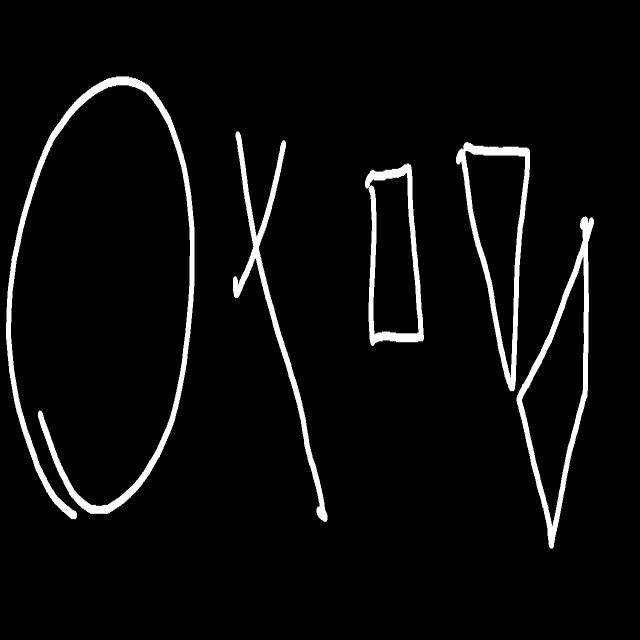circle: (6, 76, 194, 519)
cross: (234, 132, 328, 522)
diamond: (516, 219, 594, 548)
rectangle: (365, 164, 423, 345)
triangle: (456, 142, 530, 390)
